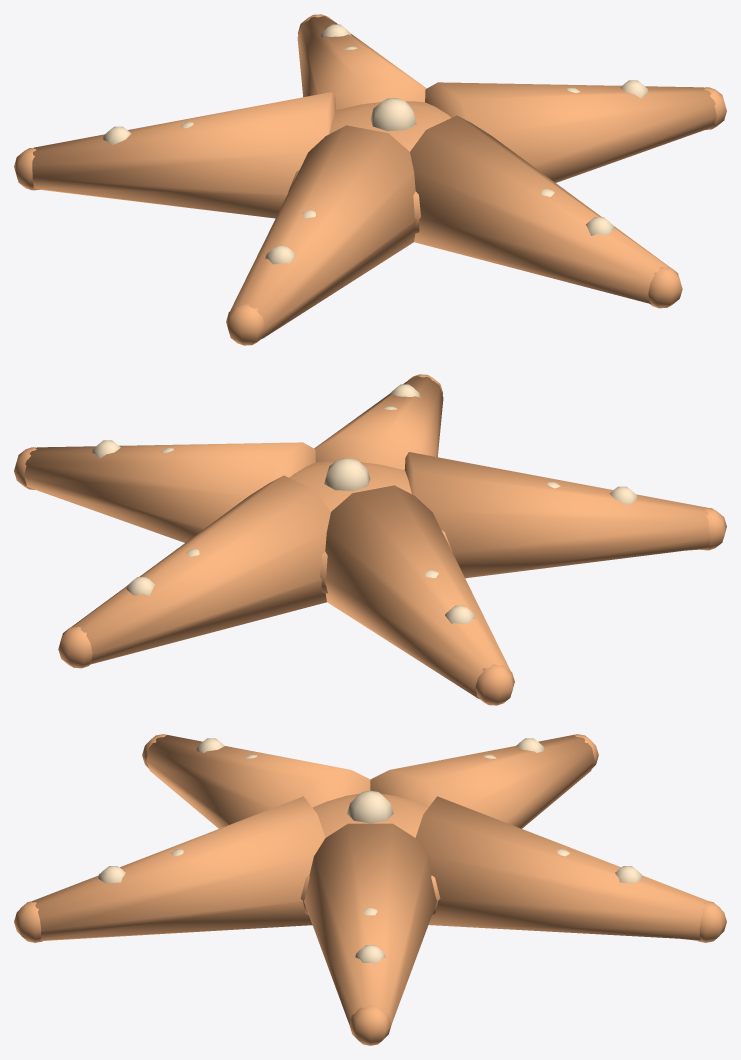
Rendered from starfish.glb.
3 renders of one model, top to bottom at view 1: azimuth 30°, elevation 25°; view 2: azimuth 150°, elevation 25°; view 3: azimuth 270°, elevation 25°, orthographic. The views are drawn at different scales.
Visible parts, largest first — view 1: starfish; view 2: starfish; view 3: starfish.
Part boxes in pixels (left/top/right/bottom): starfish: left=14, top=14, right=726, bottom=345; starfish: left=14, top=374, right=726, bottom=705; starfish: left=14, top=734, right=726, bottom=1045.
Size of the model in its own units: 0.5787 by 0.094 by 0.6066.
